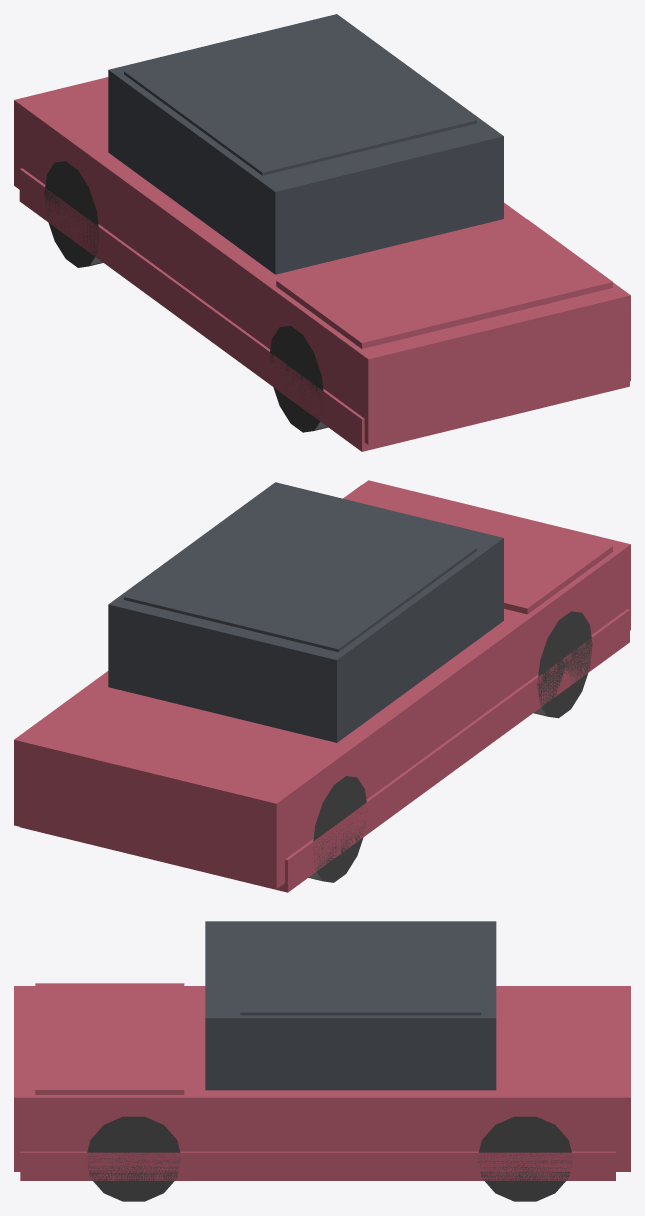
Rendered from hero.glb.
The picture shows the model from 3 angles, top to bottom: view 1: azimuth 30°, elevation 25°; view 2: azimuth 150°, elevation 25°; view 3: azimuth 270°, elevation 25°; orthographic projection. The views are drawn at different scales.
Parts seen in each view (by area): view 1: hero-sedan; view 2: hero-sedan; view 3: hero-sedan.
Boxes of the visible parts, <box> form: hero-sedan: <box>14,14,630,451</box>; hero-sedan: <box>14,480,630,892</box>; hero-sedan: <box>14,921,630,1201</box>.
Bounding box in the file's own units: 1.9 × 1.38 × 4.35.
